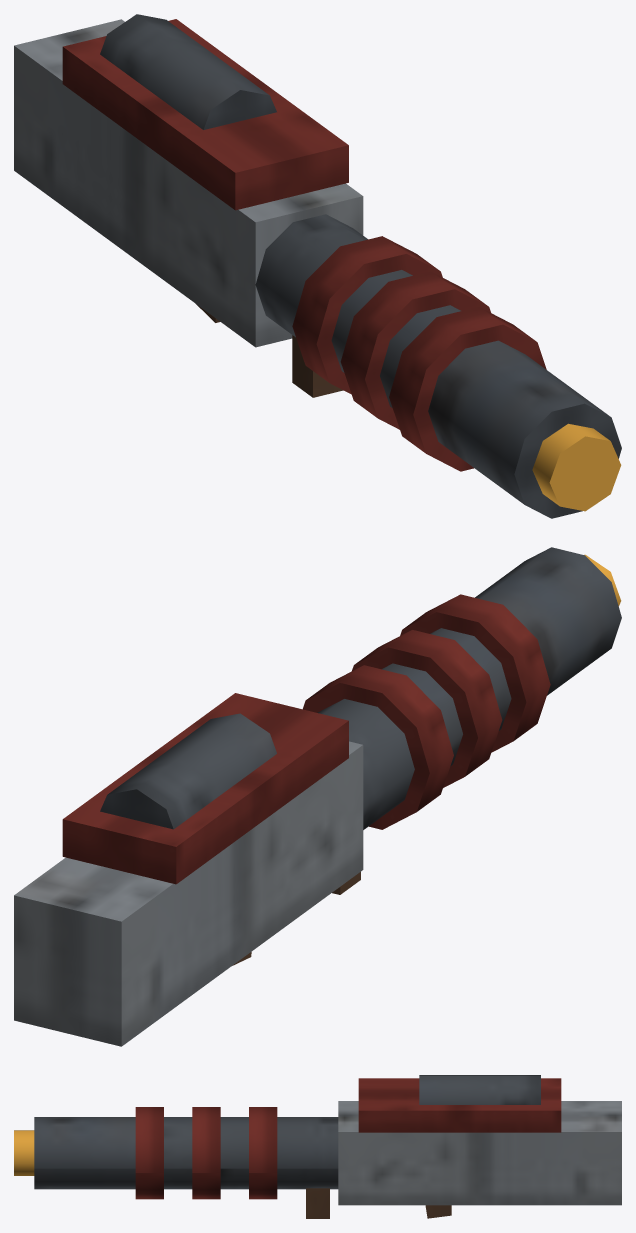
3 renders of one model, top to bottom at view 1: azimuth 30°, elevation 25°; view 2: azimuth 150°, elevation 25°; view 3: azimuth 270°, elevation 25°, orthographic. The views are drawn at different scales.
Parts seen in each view (by area): view 1: garde_weapon_plasma_caster; view 2: garde_weapon_plasma_caster; view 3: garde_weapon_plasma_caster.
Boxes of the visible parts, x1,y1,x2,y2 form: garde_weapon_plasma_caster: (14,14,621,518); garde_weapon_plasma_caster: (14,547,621,1046); garde_weapon_plasma_caster: (14,1075,621,1218).
Bounding box in the file's own units: 0.23 × 0.3742 × 1.5.
5 materials, 5 textured.
